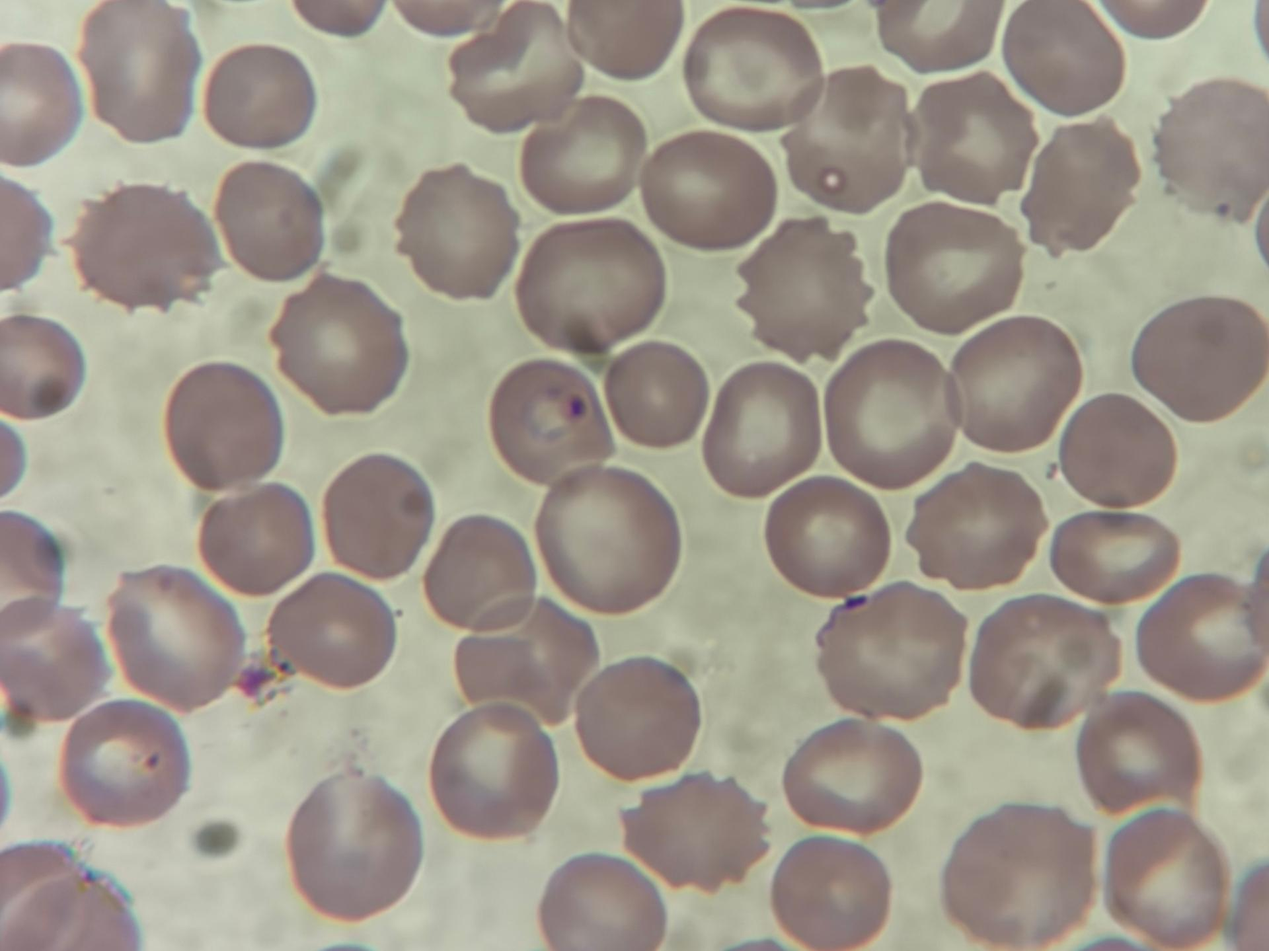Infected: (300, 230, 448, 366), (656, 465, 780, 592)
Uninfected: (174, 3, 325, 144), (843, 28, 982, 180), (145, 223, 305, 354), (586, 333, 730, 478), (1044, 638, 1200, 767), (307, 461, 442, 610), (395, 587, 531, 732), (241, 616, 383, 753), (1021, 239, 1158, 380), (859, 536, 995, 677), (603, 599, 748, 730), (358, 738, 488, 881), (707, 111, 839, 247), (675, 226, 818, 350), (1071, 811, 1196, 951), (499, 57, 644, 177), (231, 741, 358, 878), (186, 500, 315, 634), (1077, 120, 1209, 250), (348, 115, 489, 236), (40, 2, 165, 137), (0, 529, 131, 657), (221, 360, 356, 484), (681, 822, 816, 946), (3, 247, 131, 376), (443, 823, 584, 940), (444, 452, 563, 588), (1, 730, 115, 871), (747, 652, 870, 782), (130, 695, 245, 834), (489, 701, 623, 820), (565, 169, 693, 293), (375, 352, 501, 473), (67, 135, 190, 258), (871, 260, 1000, 377), (984, 457, 1101, 586), (630, 734, 746, 860), (376, 0, 501, 112), (141, 833, 265, 945), (93, 441, 213, 555), (944, 671, 1056, 789), (839, 373, 944, 496), (732, 319, 843, 432), (1157, 228, 1264, 345), (954, 355, 1066, 466), (950, 801, 1064, 909), (603, 1, 726, 96), (562, 505, 658, 615), (90, 353, 216, 436)
